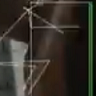hacks_1: (1, 1, 96, 96)
